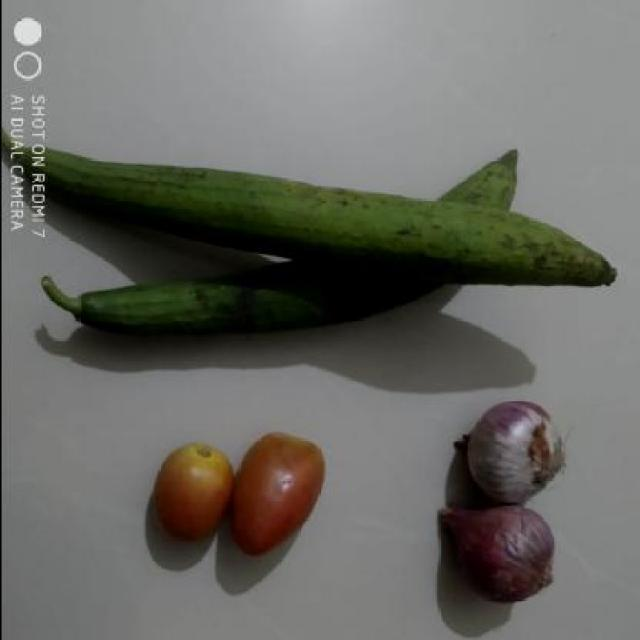onion: (428, 494, 558, 601), (441, 399, 574, 496)
tomato: (228, 436, 328, 559), (139, 436, 226, 550)
